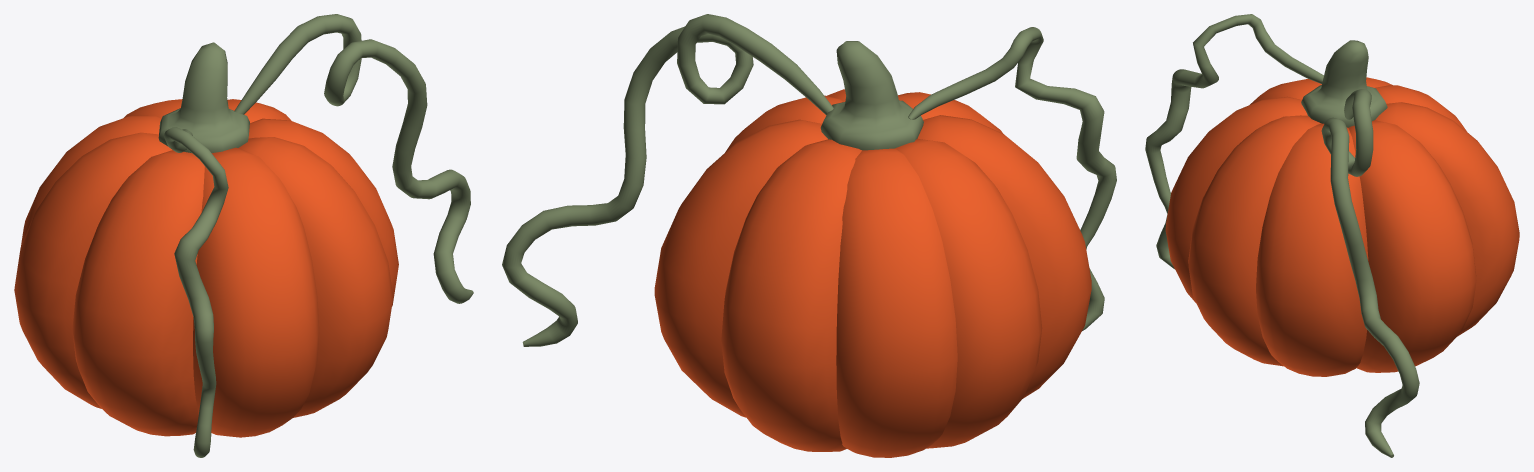
File: market-pumpkin2.fbx
The picture shows the model from 3 angles, left to right: view 1: azimuth 30°, elevation 25°; view 2: azimuth 150°, elevation 25°; view 3: azimuth 270°, elevation 25°; orthographic projection. The views are drawn at different scales.
Visible parts, largest first — view 1: Cube.134; view 2: Cube.134; view 3: Cube.134.
Boxes of the visible parts, x1,y1,x2,y2 form: Cube.134: (14, 14, 473, 457); Cube.134: (502, 14, 1116, 457); Cube.134: (1145, 14, 1519, 457).
Bounding box in the file's own units: 118 × 84.55 × 92.76.
